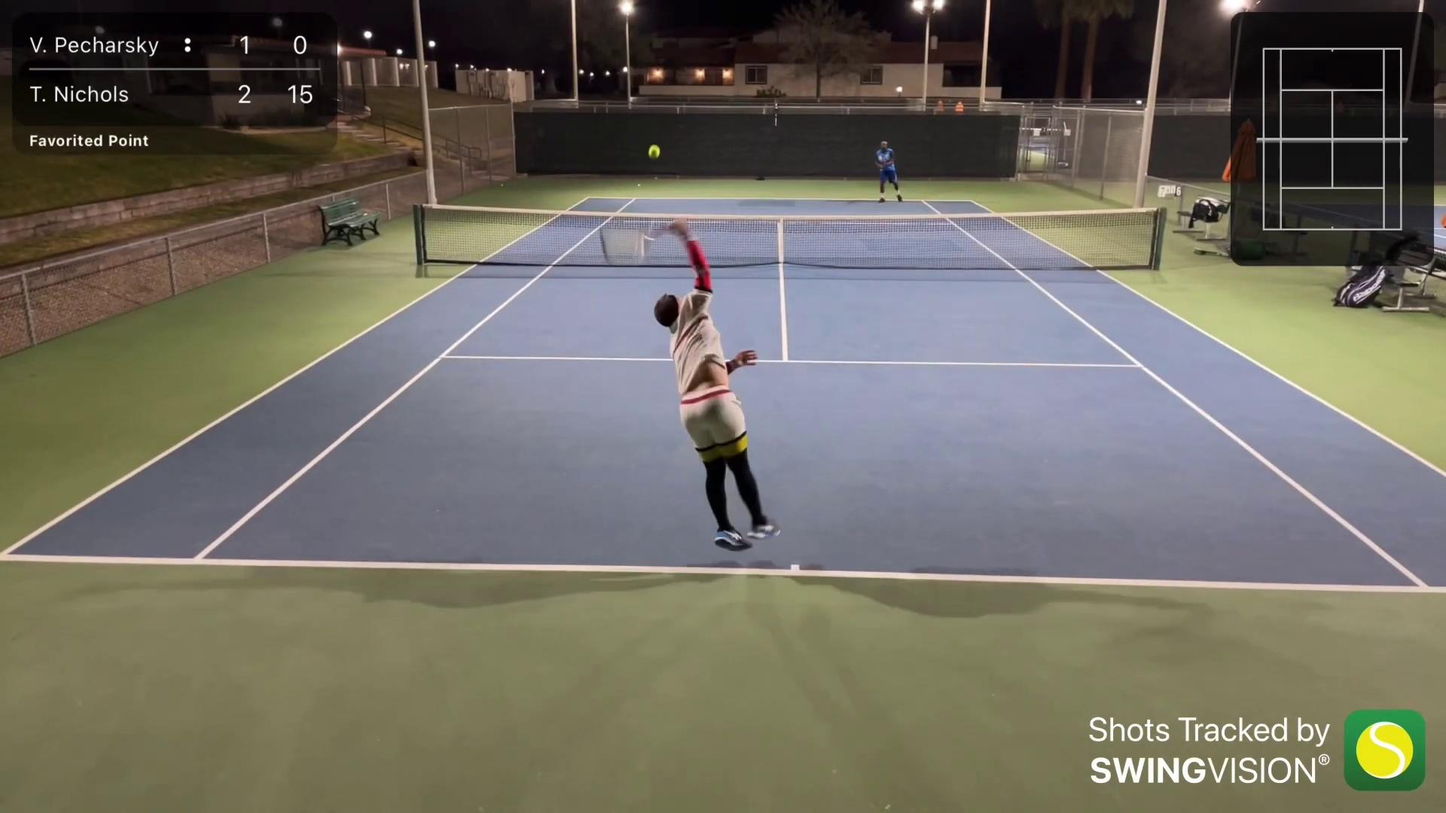ball: (644, 144, 662, 159)
